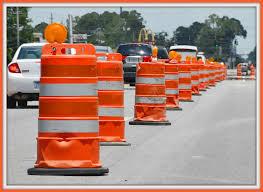barrel: (36, 44, 97, 165), (94, 54, 126, 144), (136, 63, 165, 122), (164, 64, 179, 109), (179, 64, 191, 103), (192, 64, 199, 94), (209, 65, 214, 86), (204, 65, 208, 89), (215, 66, 220, 82), (200, 66, 203, 91)
